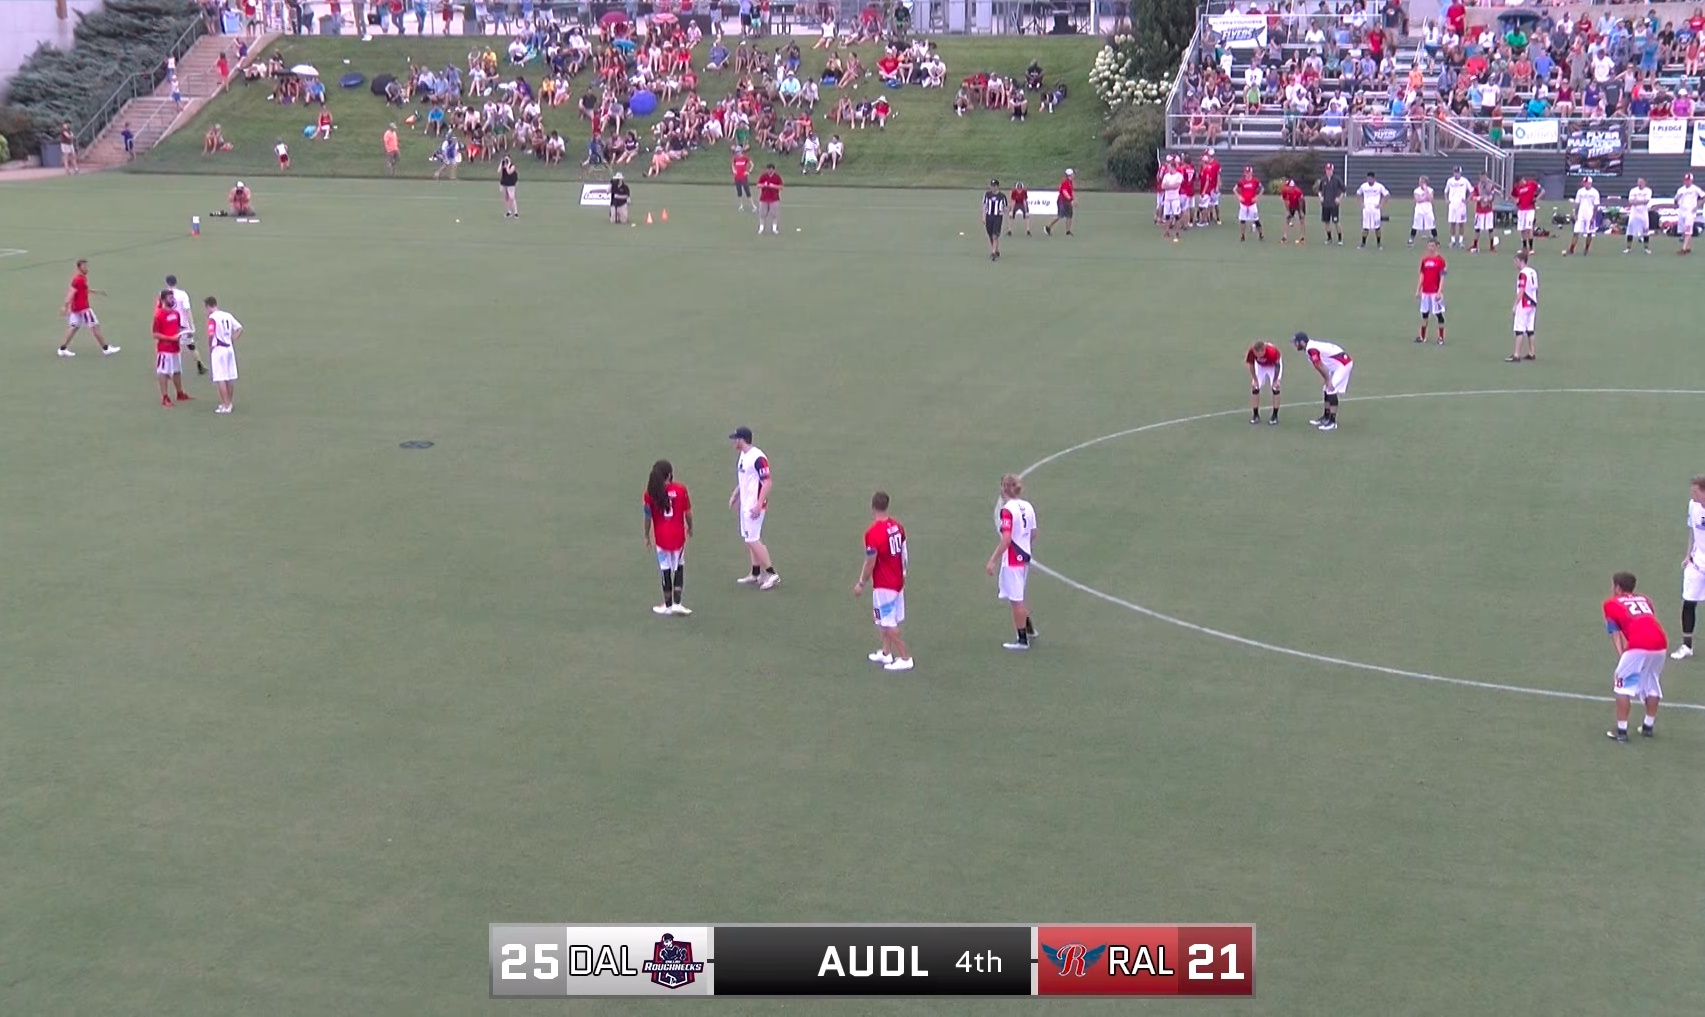frisbee: (177, 331, 194, 340)
